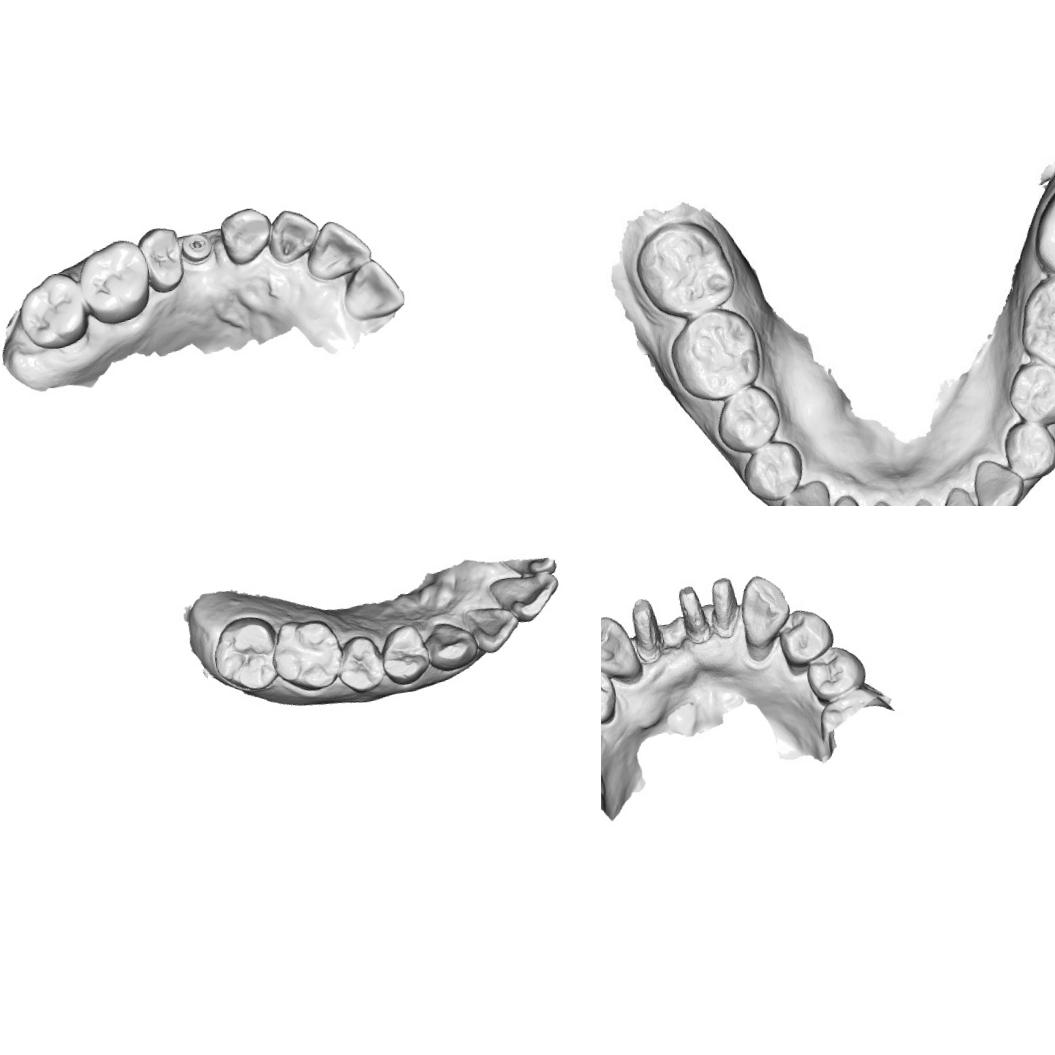canine: (733, 570, 796, 657), (216, 204, 276, 268), (421, 615, 482, 676), (601, 610, 647, 688), (970, 454, 1025, 506), (778, 477, 835, 506)
crown: (624, 592, 670, 662), (672, 582, 716, 647), (702, 573, 744, 638)
implant_minus: (178, 230, 217, 267)
incisor: (300, 216, 375, 284), (484, 567, 566, 629), (336, 254, 408, 324), (263, 204, 323, 267), (463, 599, 526, 658), (935, 481, 984, 506), (893, 489, 944, 506), (819, 493, 871, 506), (859, 493, 907, 506)
molar: (628, 214, 740, 324), (668, 294, 766, 404), (267, 612, 351, 703), (74, 235, 156, 328), (12, 269, 95, 353), (206, 611, 283, 699), (1011, 267, 1055, 377), (1028, 171, 1055, 289)
premolar: (712, 384, 785, 454), (739, 436, 810, 504), (773, 604, 839, 676), (800, 640, 870, 706), (1003, 356, 1055, 438), (376, 618, 435, 688), (136, 224, 188, 297), (332, 630, 387, 699), (1002, 419, 1055, 485), (601, 664, 621, 731)
